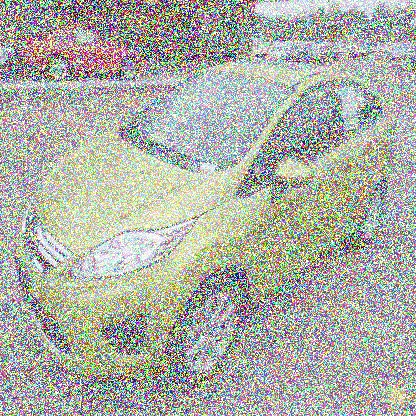Vehicle: (14, 58, 400, 390)
